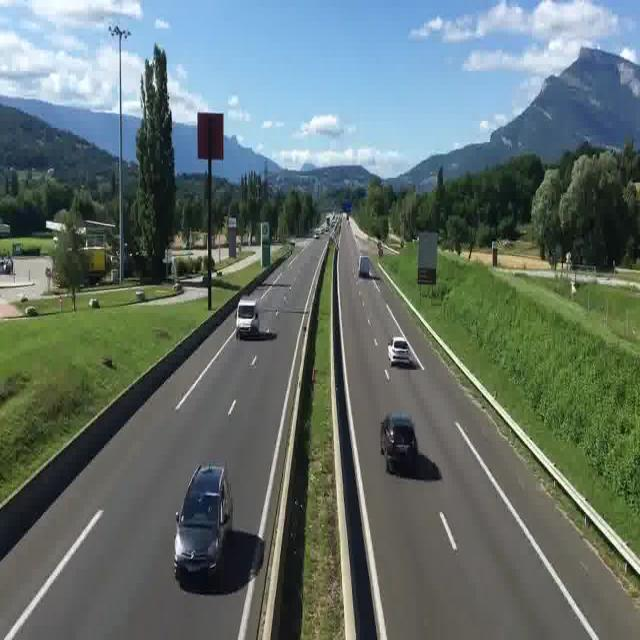Car: (172, 444, 235, 592), (375, 404, 421, 475), (232, 291, 266, 338), (386, 329, 412, 372), (356, 254, 370, 281)
